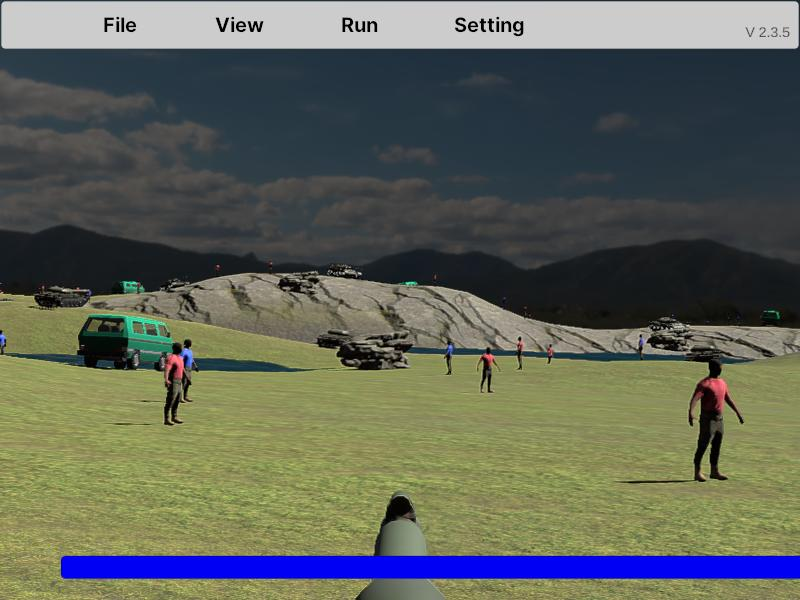Human: (688, 357, 744, 481), (164, 342, 191, 424), (179, 338, 199, 403), (477, 346, 500, 394)
Tank: (32, 286, 91, 308)
car: (77, 314, 174, 372)
